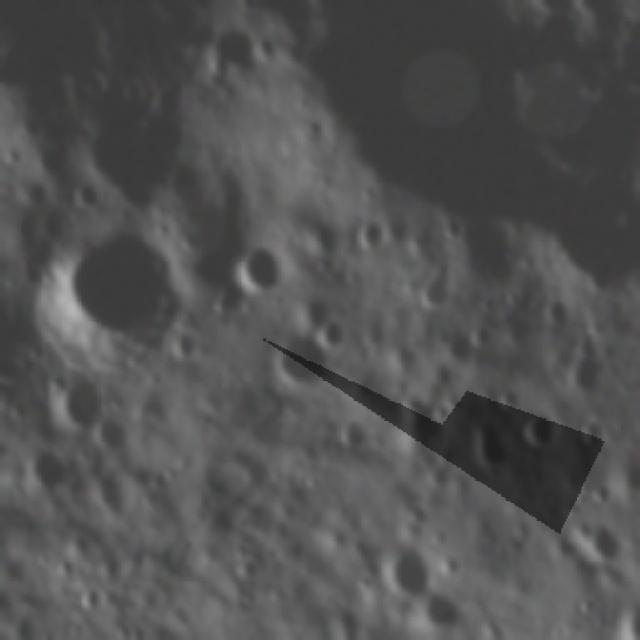crater: (74, 82, 198, 207), (58, 228, 178, 354), (200, 21, 288, 98), (48, 374, 119, 444), (264, 330, 327, 390), (458, 422, 517, 486), (381, 531, 437, 598), (564, 514, 627, 563), (236, 240, 284, 302), (419, 586, 470, 640), (26, 449, 76, 503), (510, 415, 565, 463), (0, 93, 17, 233), (411, 264, 462, 310), (332, 411, 381, 455), (355, 205, 390, 253), (391, 343, 431, 379), (304, 319, 344, 353)
